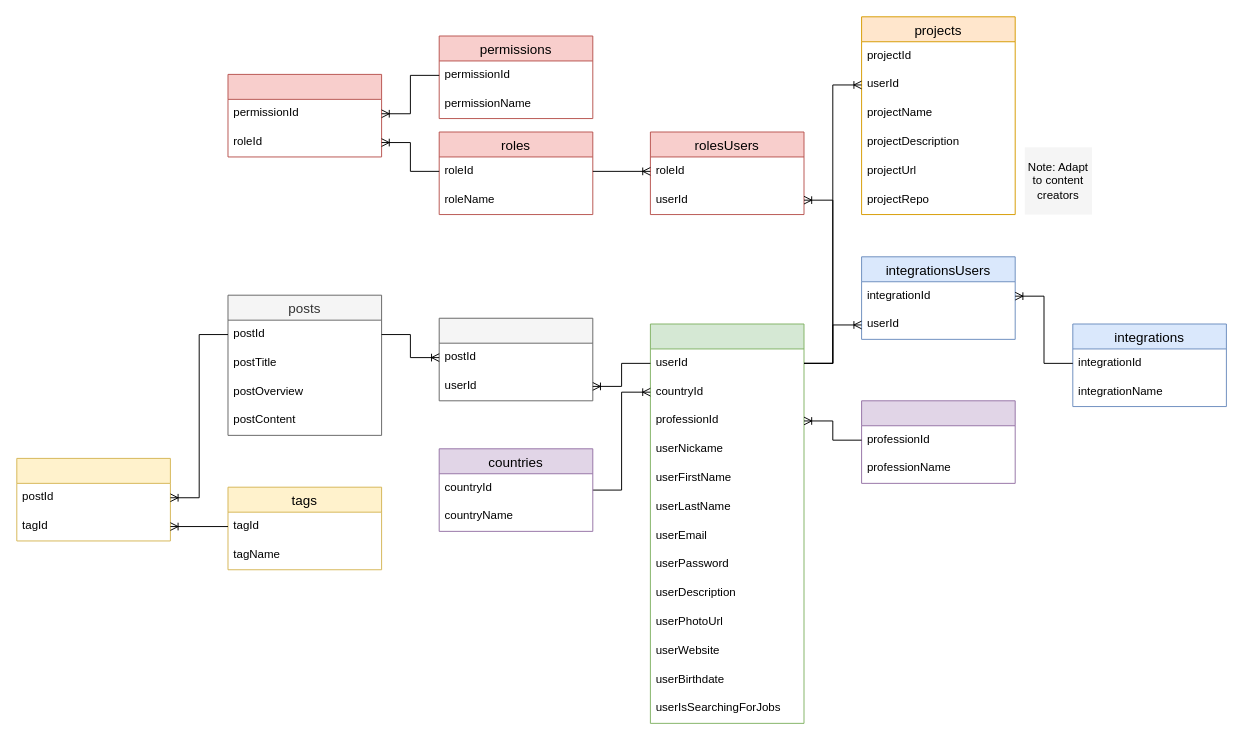
This 1243x743 diagram has some shape labels left out. The shapes that lost their labels are listed below. From the top down, each one's box as (x1, y1, x2, y2) in pixels, then its label:
(227, 73, 382, 157): permissionsRol
(438, 317, 593, 401): postsUsers
(861, 400, 1015, 483): professions
(16, 457, 170, 541): postsTags
(649, 323, 804, 723): users
